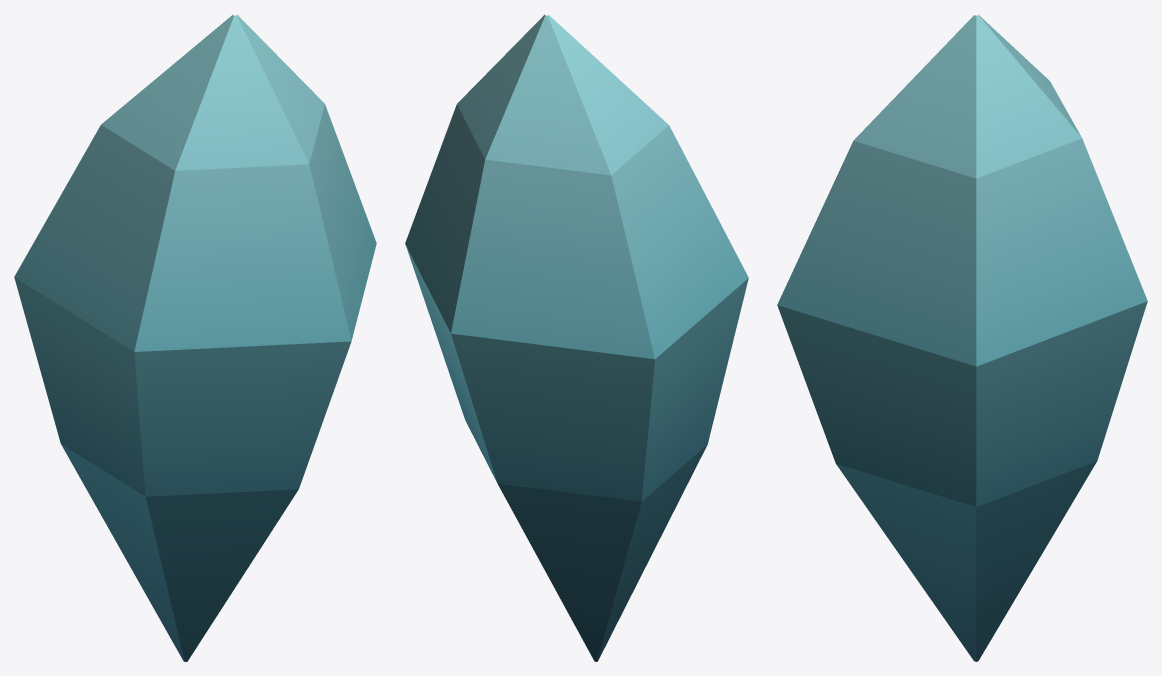
Rendered from ice.crystal-v3.glb.
3 renders of one model, left to right at view 1: azimuth 30°, elevation 25°; view 2: azimuth 150°, elevation 25°; view 3: azimuth 270°, elevation 25°, orthographic. The views are drawn at different scales.
Visible parts, largest first — view 1: ice.crystal; view 2: ice.crystal; view 3: ice.crystal.
Boxes of the visible parts, box(x1,y1,x2,y2) form: ice.crystal: box(14, 14, 376, 661); ice.crystal: box(405, 14, 748, 661); ice.crystal: box(777, 14, 1147, 661).
Size of the model in its own units: 0.3265 by 0.646 by 0.3231.
